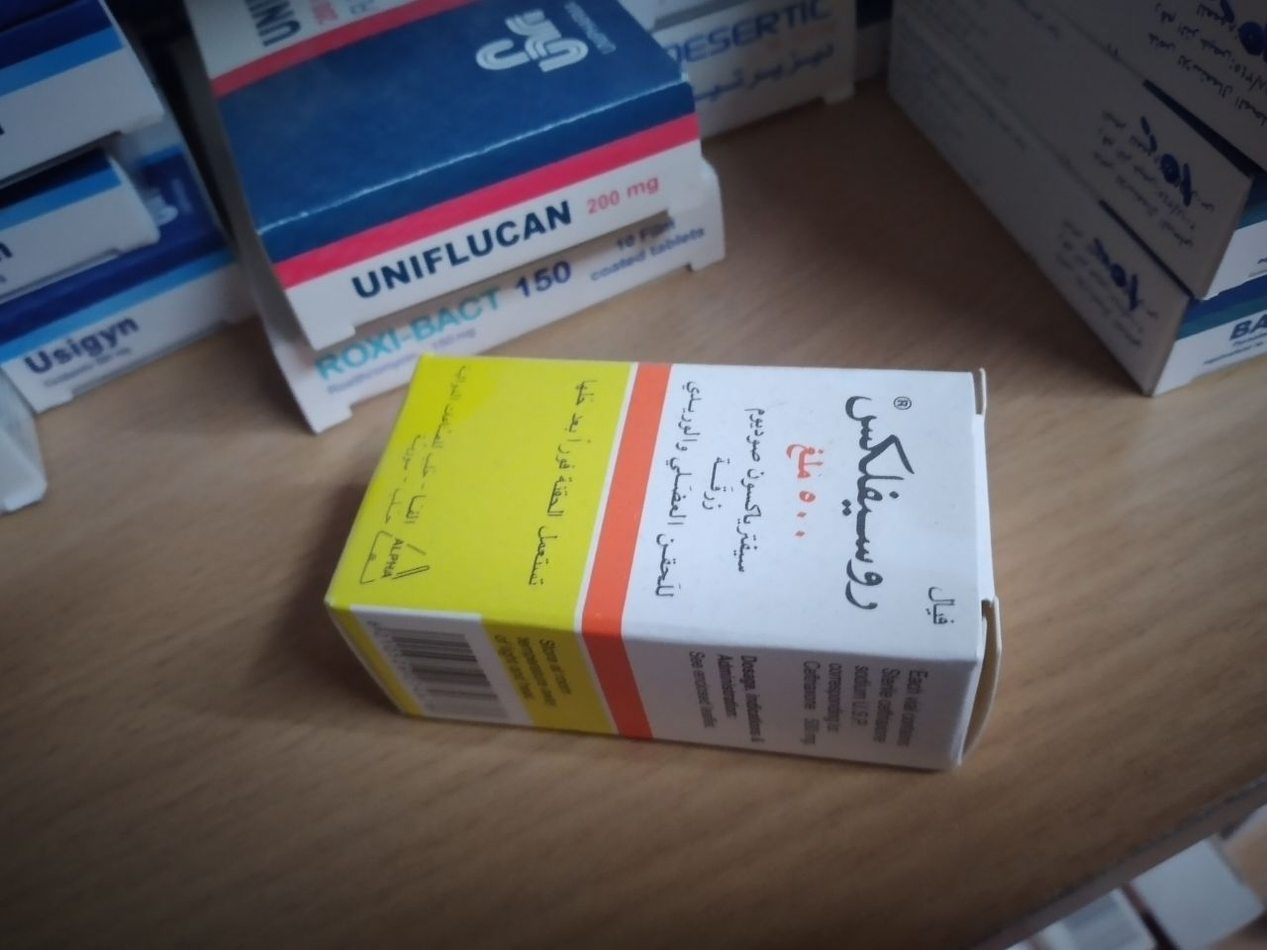Medicine: (319, 329, 1017, 792), (171, 10, 730, 329), (878, 12, 1267, 423), (220, 139, 735, 438), (5, 7, 161, 183)
